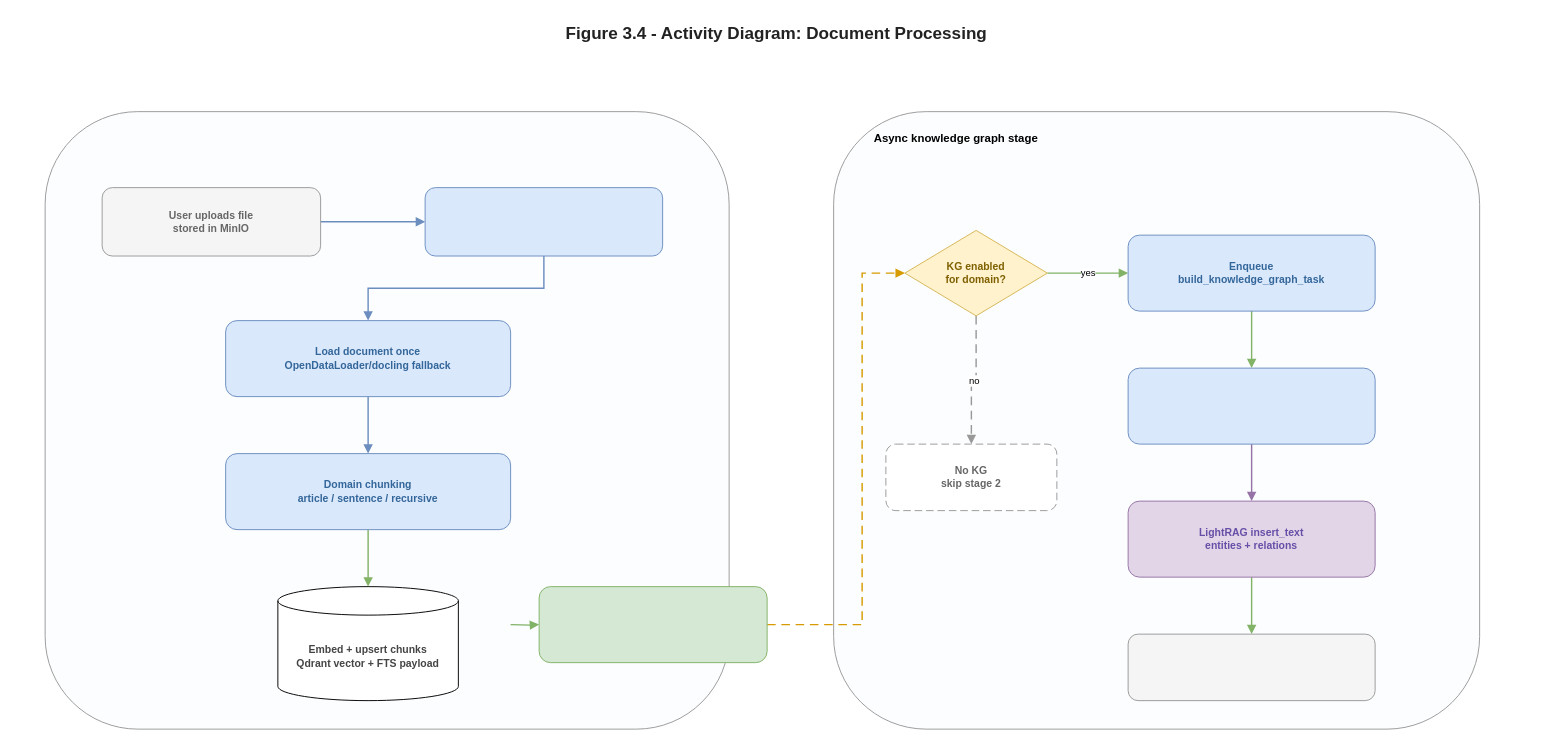
This 1552x746 diagram has some shape labels left out. Each missing label, with the box of its shape:
Celery process_document_task status = processing: (424, 187, 663, 256)
Document status = completed metadata available immediately: (538, 586, 767, 663)
kg_status updated ready / failed: (1127, 633, 1375, 701)
Sanitize full text remove null bytes, cap size: (1127, 367, 1375, 444)
Upload and vector indexing: (44, 111, 729, 729)
